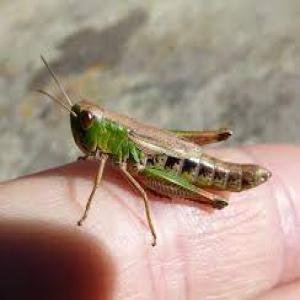locust: (49, 61, 284, 215)
